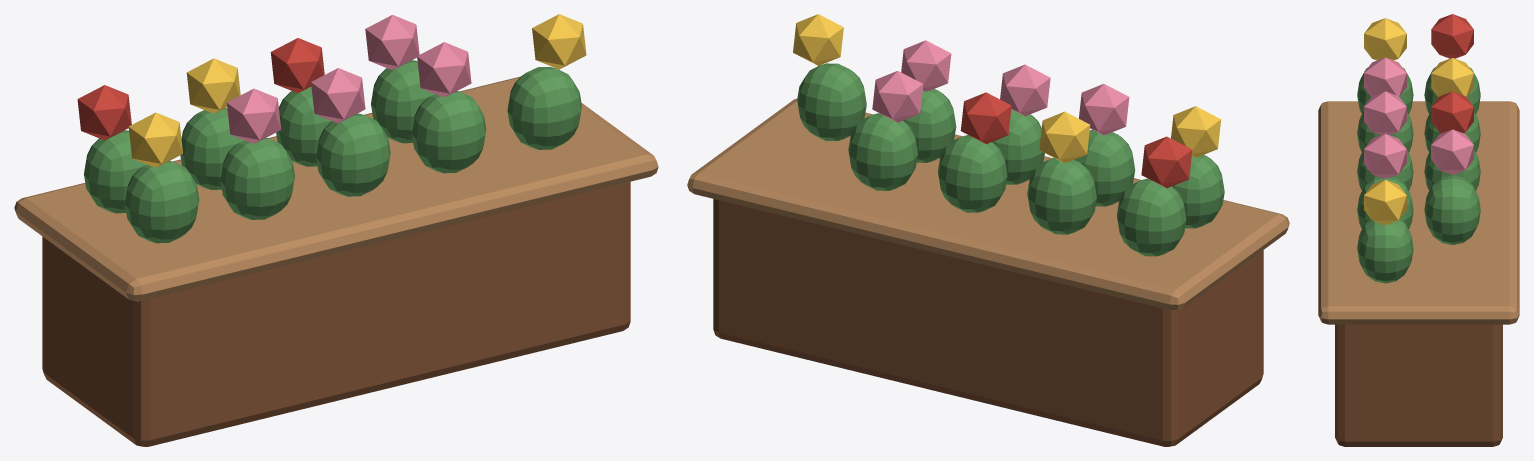
The model's file is planter.glb.
3 renders of one model, left to right at view 1: azimuth 30°, elevation 25°; view 2: azimuth 150°, elevation 25°; view 3: azimuth 270°, elevation 25°, orthographic. The views are drawn at different scales.
Visible parts, largest first — view 1: planter; view 2: planter; view 3: planter.
Boxes of the visible parts, left/top/right/bottom form: planter: left=14, top=14, right=658, bottom=446; planter: left=687, top=14, right=1289, bottom=446; planter: left=1318, top=14, right=1519, bottom=446.
Size of the model in its own units: 1.5 by 0.83 by 0.6.
